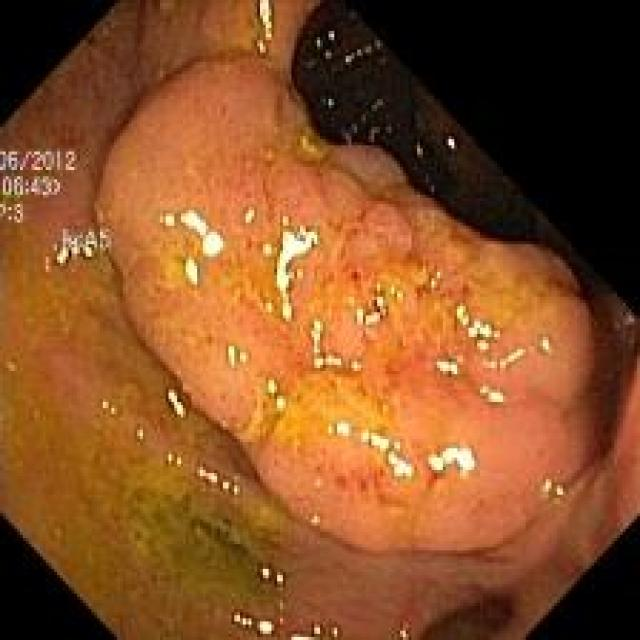Polyps: (96, 57, 636, 555)
